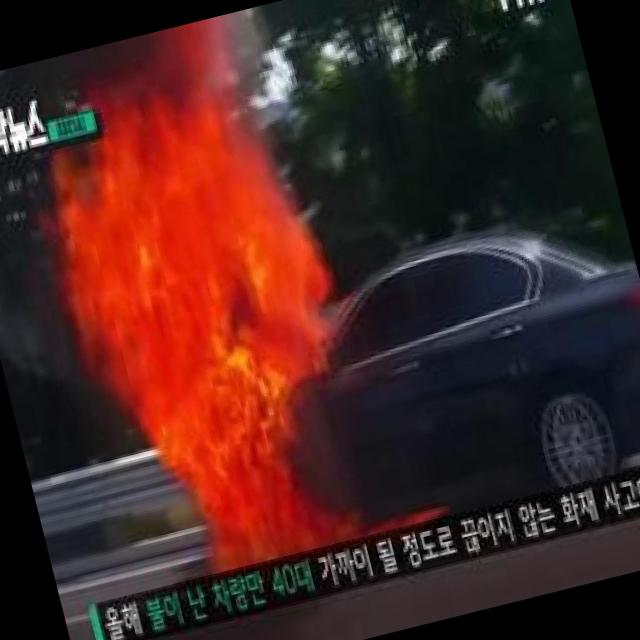Fire: (28, 76, 470, 600), (86, 10, 278, 134)
